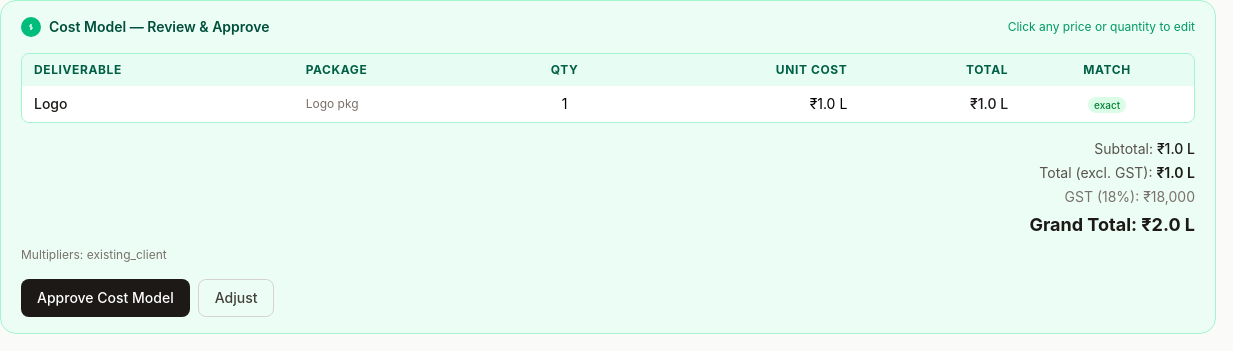
Test: CostModelCard › approves the cost model
The image size is (1233, 351).
Step 1. Click the button "Approve Cost Model" → (105, 298), box [21,279,190,317]
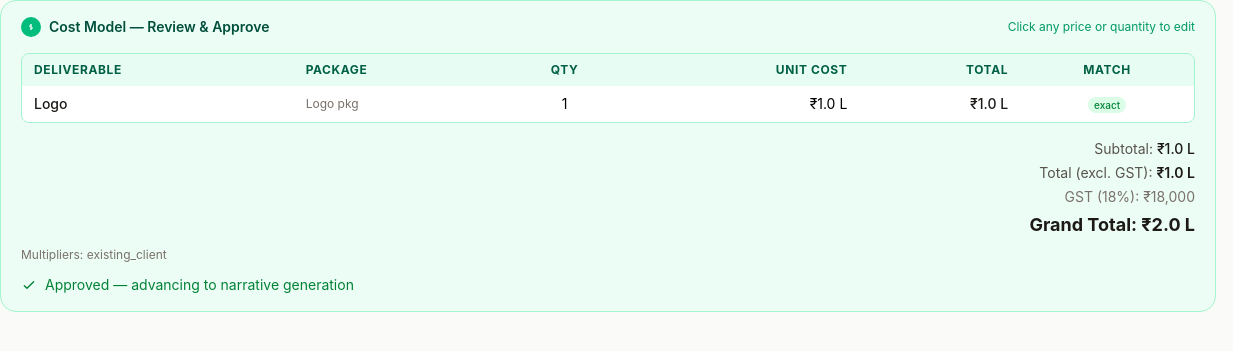
Expected: the text "Approved — advancing to narrative generation" is shown, [21,276,354,293]
